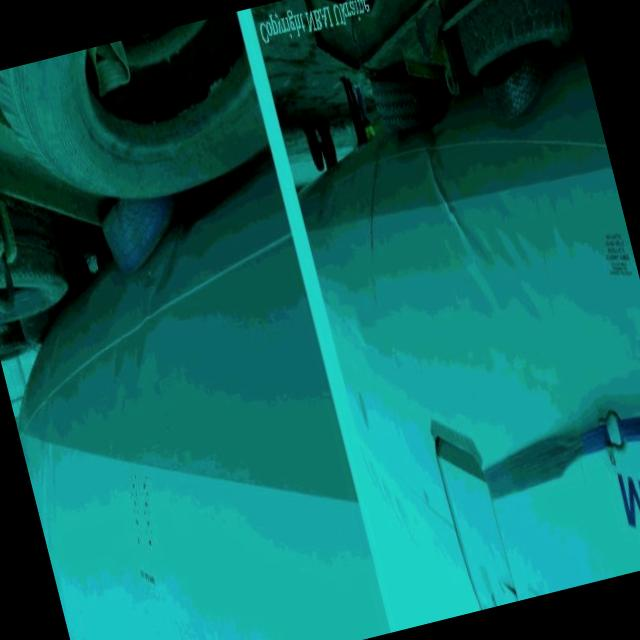dent: (72, 225, 210, 385), (405, 121, 502, 304)
